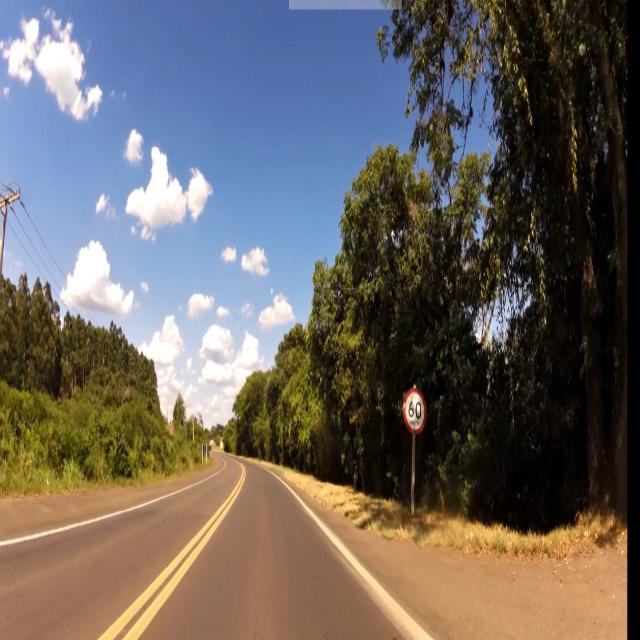R-19: (403, 385, 427, 437)
